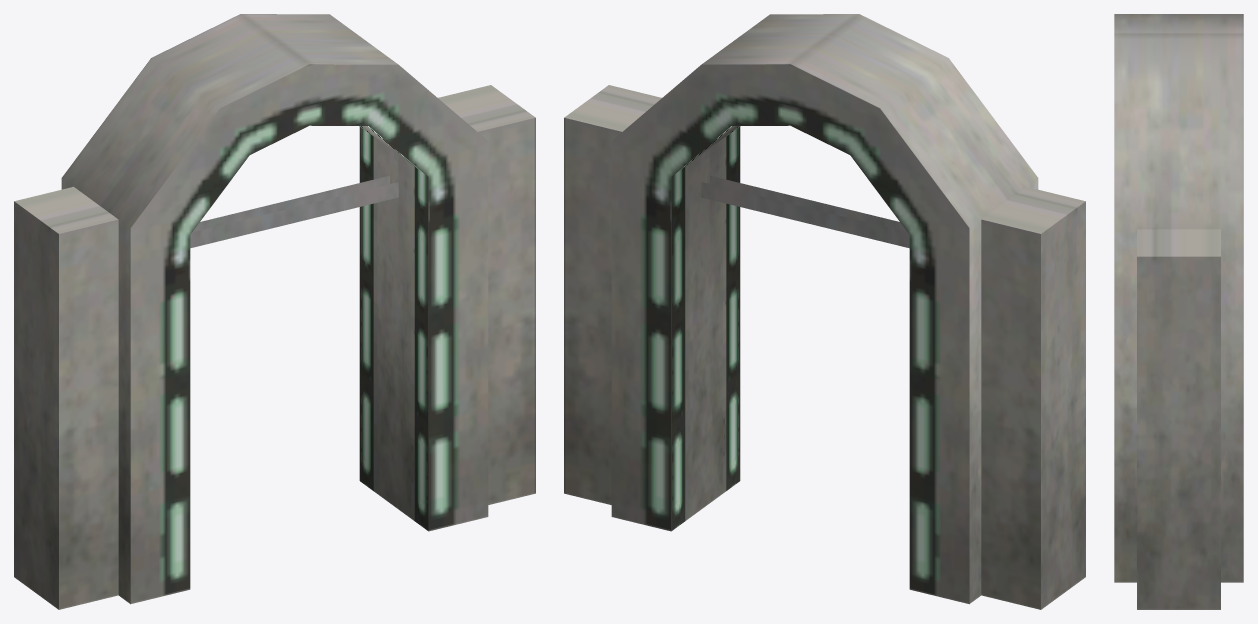
File: thm_corl_imprv_gate_sm_s02_l2.fbx
The picture shows the model from 3 angles, left to right: view 1: azimuth 30°, elevation 25°; view 2: azimuth 150°, elevation 25°; view 3: azimuth 270°, elevation 25°; orthographic projection. The views are drawn at different scales.
Visible parts, largest first — view 1: mesh_node; view 2: mesh_node; view 3: mesh_node.
Boxes of the visible parts, <box> form: mesh_node: <box>14,14,535,609</box>; mesh_node: <box>564,14,1085,609</box>; mesh_node: <box>1114,14,1243,609</box>.
Bounding box in the file's own units: 8 × 7.95 × 2.
Materials: 1 (1 with a texture image).
